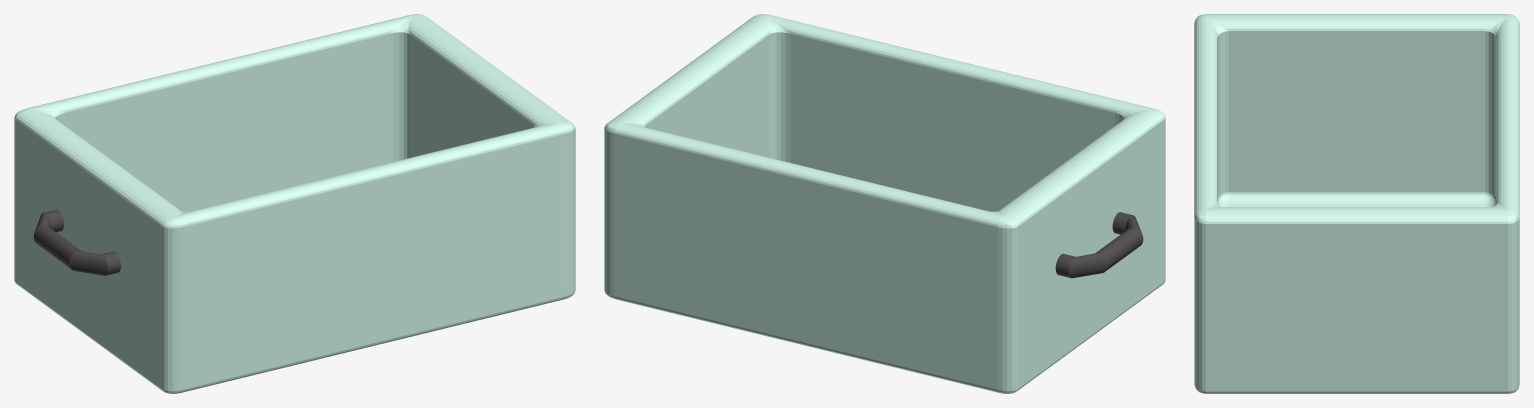
File: Buz dolabı çekmece.fbx
3 views of the same model, side by side, from view 1: azimuth 30°, elevation 25°; view 2: azimuth 150°, elevation 25°; view 3: azimuth 270°, elevation 25° (orthographic). The views are drawn at different scales.
Visible parts, largest first — view 1: Cylinder; view 2: Cylinder; view 3: Cylinder.
Boxes of the visible parts, bbox=[...] form: Cylinder: bbox=[14, 14, 575, 393]; Cylinder: bbox=[604, 14, 1165, 393]; Cylinder: bbox=[1194, 14, 1519, 393].
Bounding box in the file's own units: 98.05 × 36.6 × 59.79.
